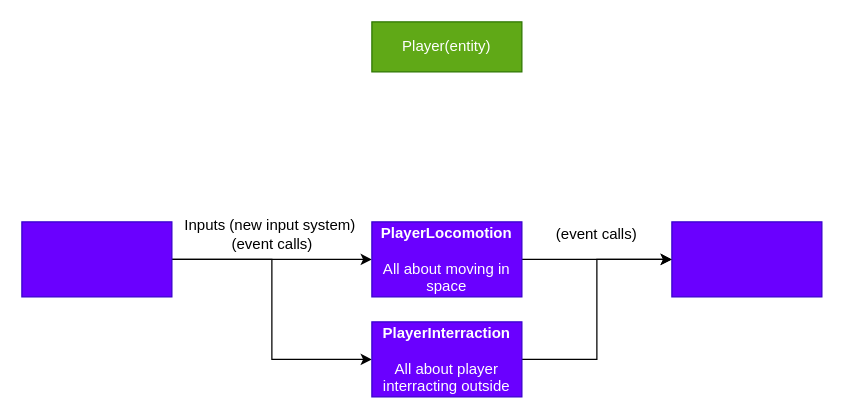
Some shapes in this 844 by 419 pixel diagram are drawn without their labels. The box of each missing label's shape, as (x1, y1, x2, y2) in pixels:
PlayerAnimation All about animating the player: (671, 221, 822, 297)
PlayerInput What inputs does the player take: (21, 221, 172, 297)
